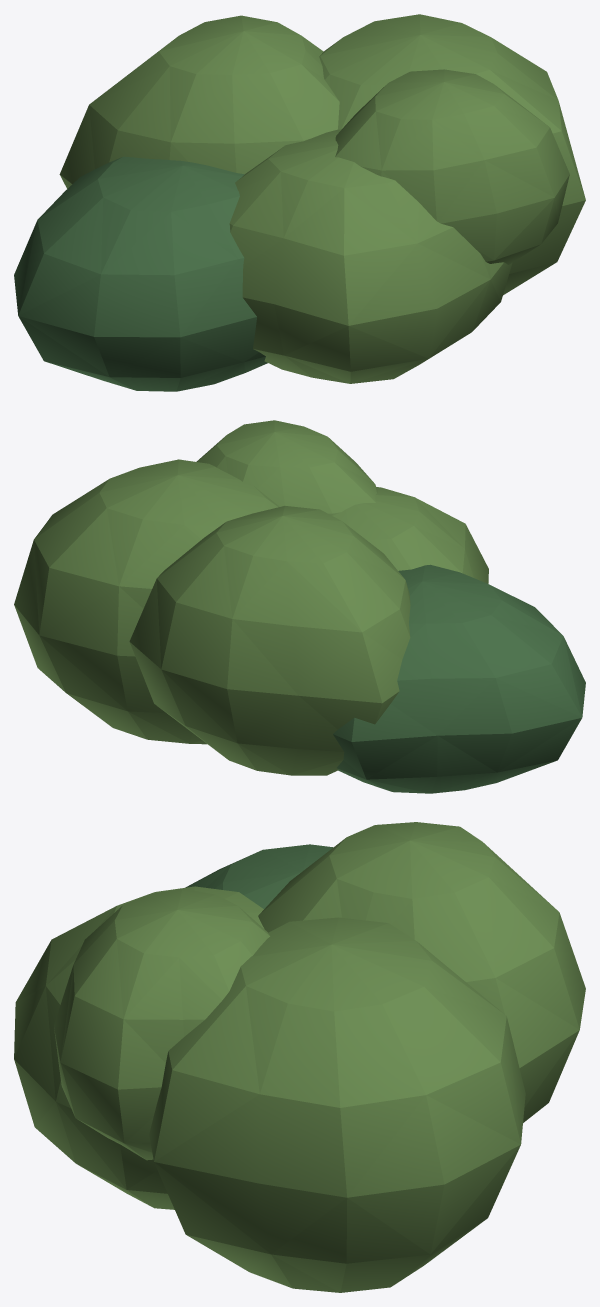
File: SHRUB_01.glb
3 renders of one model, top to bottom at view 1: azimuth 30°, elevation 25°; view 2: azimuth 150°, elevation 25°; view 3: azimuth 270°, elevation 25°, orthographic. The views are drawn at different scales.
Visible parts, largest first — view 1: CIVRUM_GAME_SHRUB_01; view 2: CIVRUM_GAME_SHRUB_01; view 3: CIVRUM_GAME_SHRUB_01.
Part boxes in pixels (x1=…): CIVRUM_GAME_SHRUB_01: x1=14, y1=14, x2=585, y2=391; CIVRUM_GAME_SHRUB_01: x1=14, y1=420, x2=585, y2=793; CIVRUM_GAME_SHRUB_01: x1=14, y1=822, x2=585, y2=1292.
Bounding box in the file's own units: 1.91 × 0.93 × 1.4.
